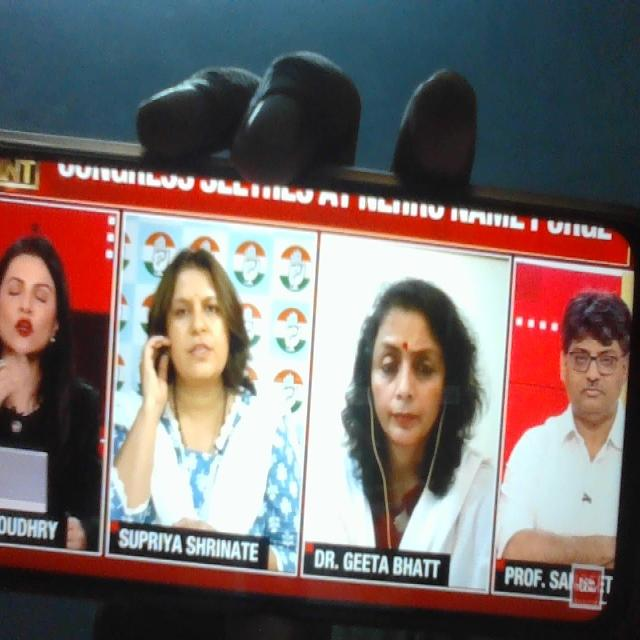fake: (361, 283, 458, 465)
